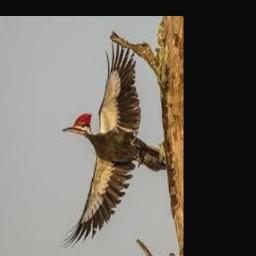Woodpecker: (60, 41, 168, 251)
